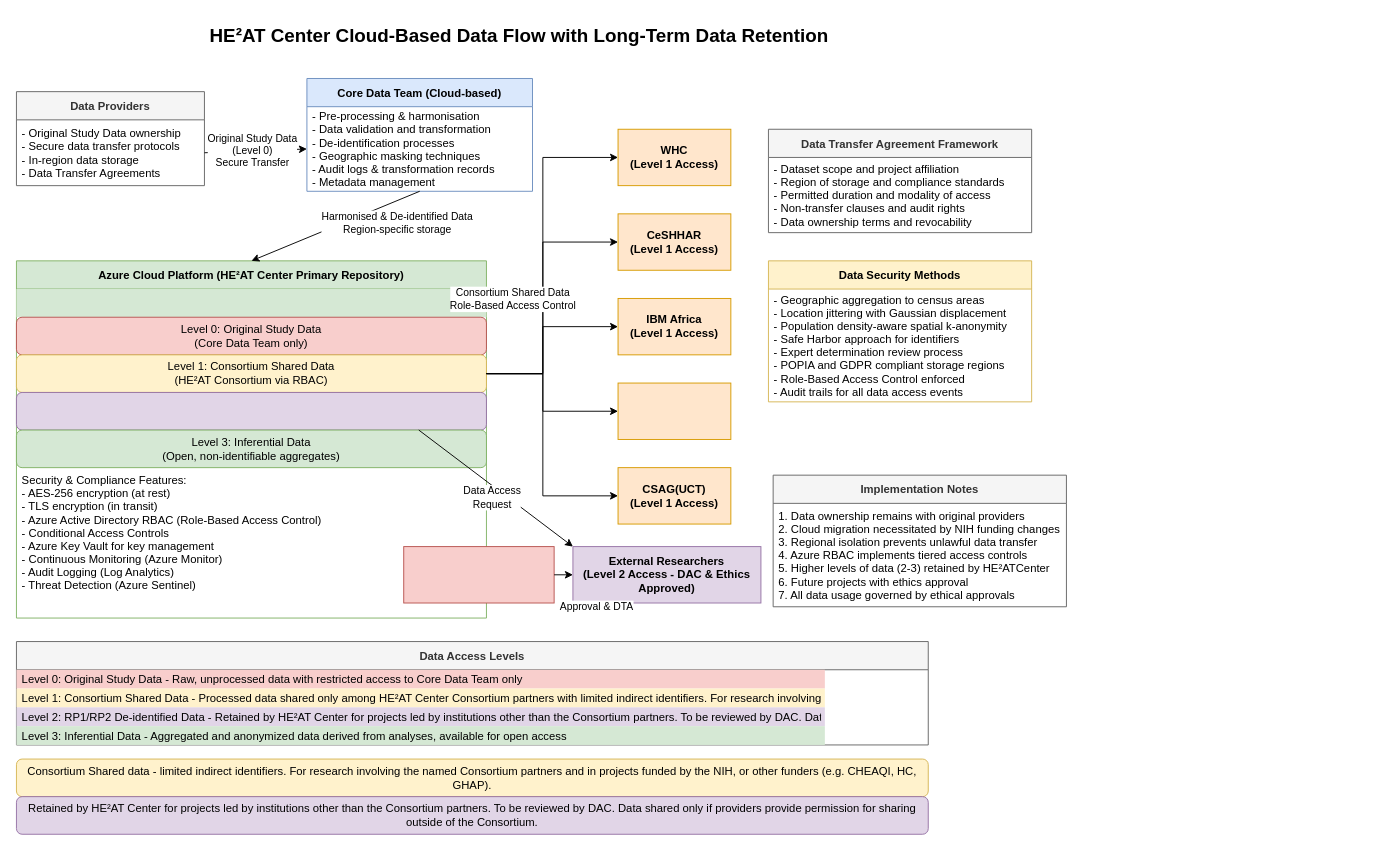
The diagram is 1395 pixels wide and 851 high, and some of its shapes have lost their labels. Here are the shapes that lost their labels. From the top down, the centre of each, then its label:
At point (251, 303): "Geo-Distributed Storage Architecture".
At point (251, 411): "Level 2: RP1/RP2 De-identified Data (DAC-approved external researchers)".
At point (674, 410): "UPGC (Level 1 Access)".
At point (478, 574): "Data Access Committee (DAC) & Ethics Review".
